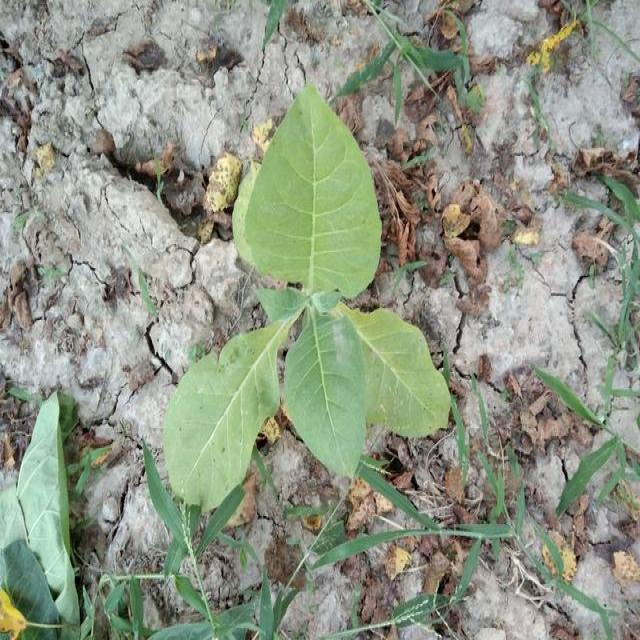crop: (162, 84, 454, 506)
